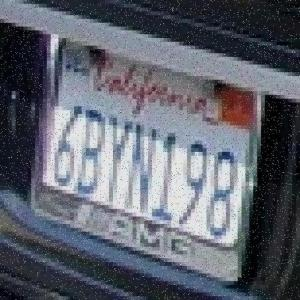Plate: (21, 16, 276, 288)
